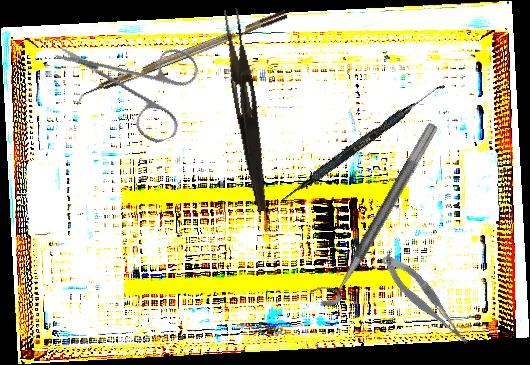Chopper: (71, 9, 293, 111)
Dressing Forceps: (215, 7, 278, 213)
Fixation Ring: (305, 112, 441, 314)
Iris Scissors: (53, 1, 219, 167)
Micro Scissor: (378, 245, 472, 356)
Spatula Surgical: (278, 78, 446, 208)
